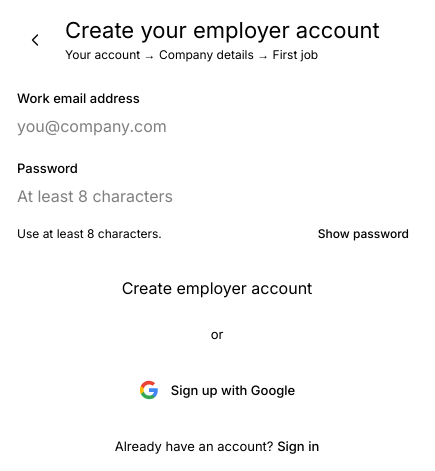
Test: employer account signup › supports one password field with a visibility toggle for employers
Type "owner@example.com" into the field labelled "Work email address" at (134, 126), box [17,114,251,138]
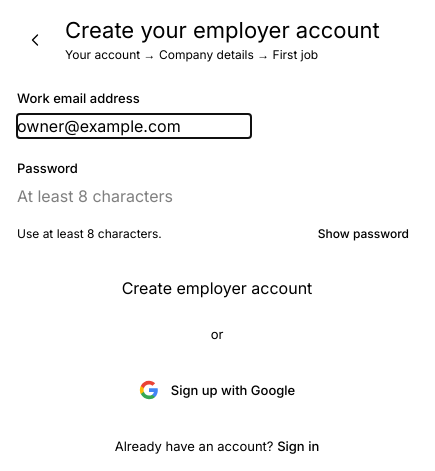
Type "secure-password" into the password field labelled "Password" at (134, 196), box [17,184,251,208]
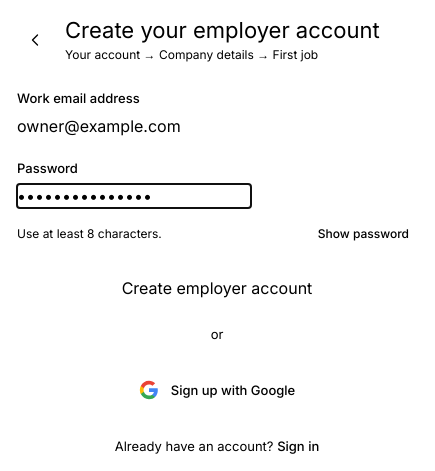
Click the button "Show password" at (363, 234), box [310,212,417,256]
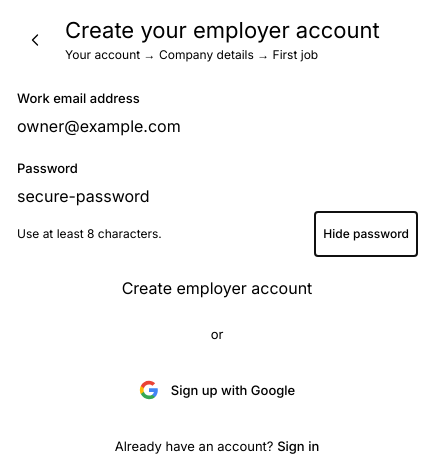
Expected: the field labelled "Password" shows its text, [17,184,251,208]
Click the button "Create employer account" at (217, 288), box [17,276,417,300]
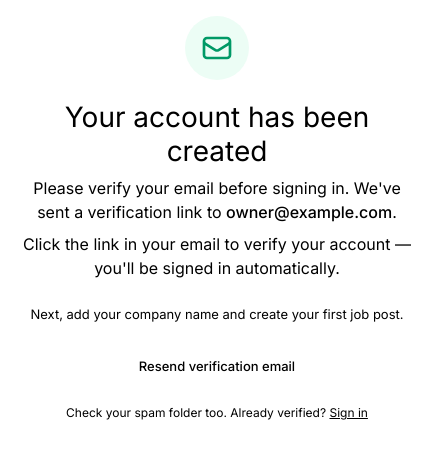
Expected: the button "Resend verification email" is shown, [17,344,417,388]
